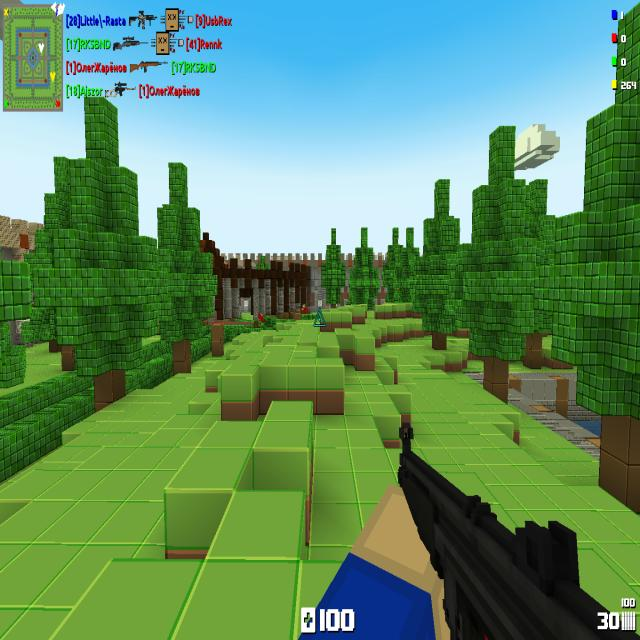enemy: (302, 303, 306, 314)
